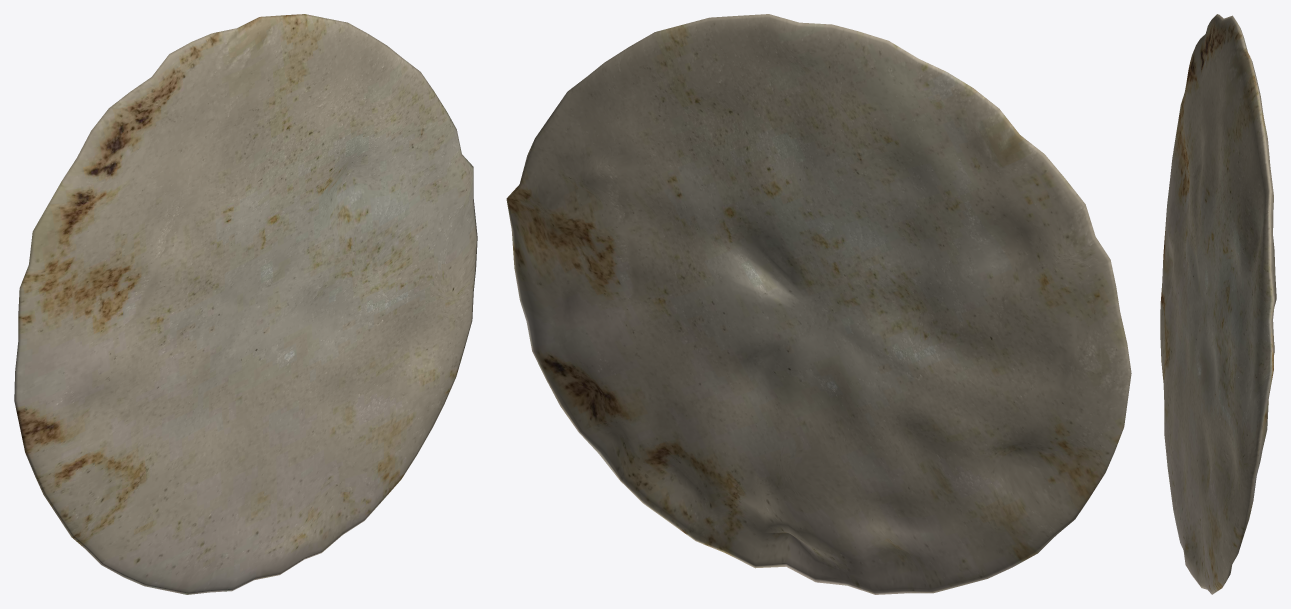
Rendered from khubs.glb.
The picture shows the model from 3 angles, left to right: view 1: azimuth 30°, elevation 25°; view 2: azimuth 150°, elevation 25°; view 3: azimuth 270°, elevation 25°; orthographic projection. The views are drawn at different scales.
Parts seen in each view (by area): view 1: Cylinder; view 2: Cylinder; view 3: Cylinder.
Part boxes in pixels (x1,y1,x2,y2): Cylinder: (14, 14, 477, 594); Cylinder: (506, 14, 1131, 594); Cylinder: (1160, 14, 1276, 594).
Size of the model in its own units: 3.75 by 3.74 by 0.7596.
Materials: 1 (1 with a texture image).
